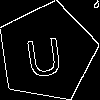U: (22, 27, 65, 78)
